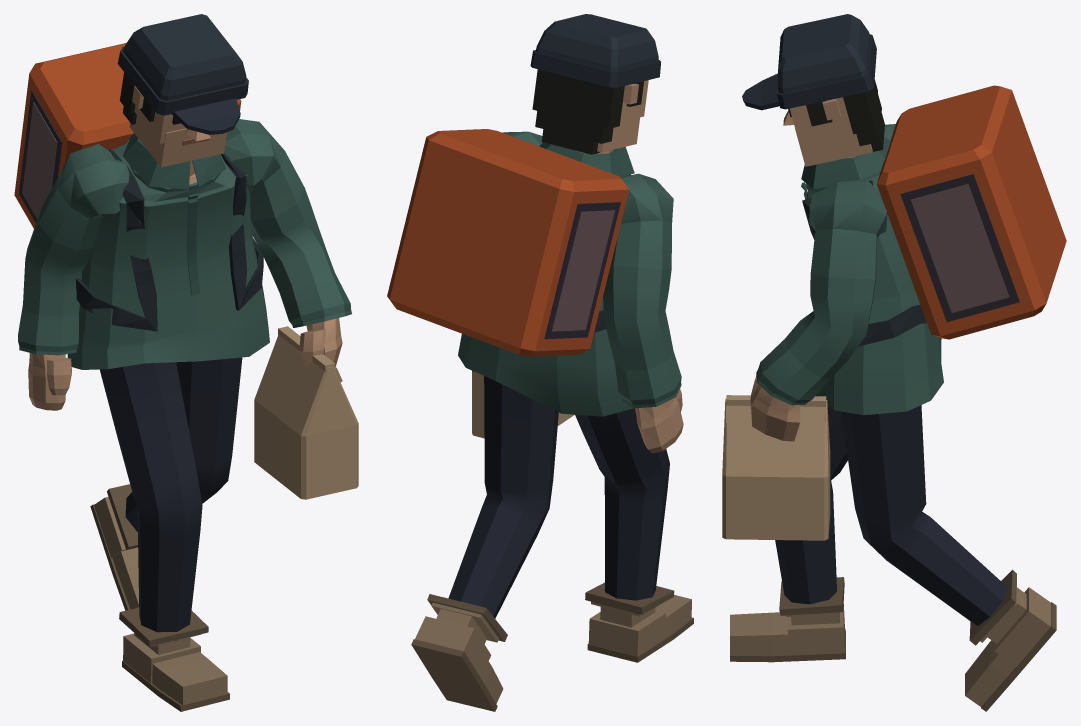
The model's file is delivery-courier-327e30__walk5.glb.
3 renders of one model, left to right at view 1: azimuth 30°, elevation 25°; view 2: azimuth 150°, elevation 25°; view 3: azimuth 270°, elevation 25°, orthographic.
Parts seen in each view (by area): view 1: delivery-courier-327e30__walk5; view 2: delivery-courier-327e30__walk5; view 3: delivery-courier-327e30__walk5.
Part boxes in pixels (bbox=[...]): delivery-courier-327e30__walk5: bbox=[14, 14, 358, 711]; delivery-courier-327e30__walk5: bbox=[387, 14, 693, 711]; delivery-courier-327e30__walk5: bbox=[722, 14, 1066, 711].
Size of the model in its own units: 0.751 by 1.75 by 0.8431.
